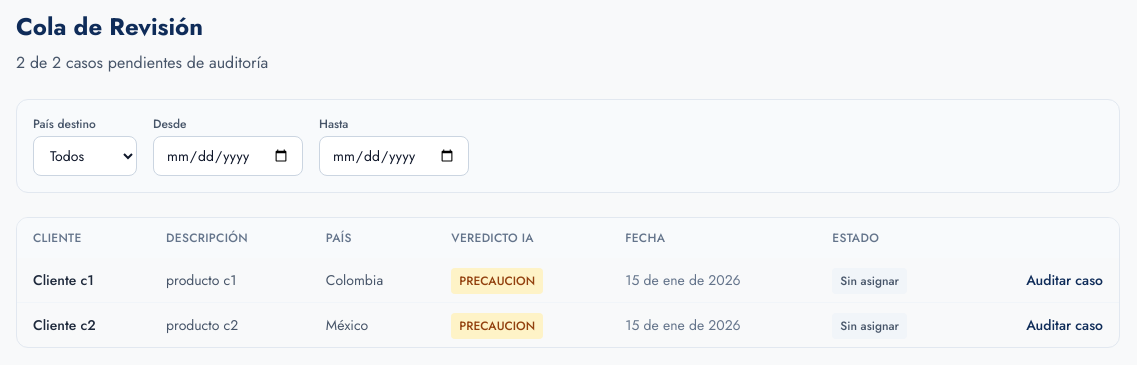
Scenario: AgentPanel › 'Limpiar filtros' restaura la lista completa
Check: the text "Cliente c1" is shown, box [33,270,94,290]
Select "México" in the dropdown labelled "País destino" at (85,156), box [33,136,137,176]
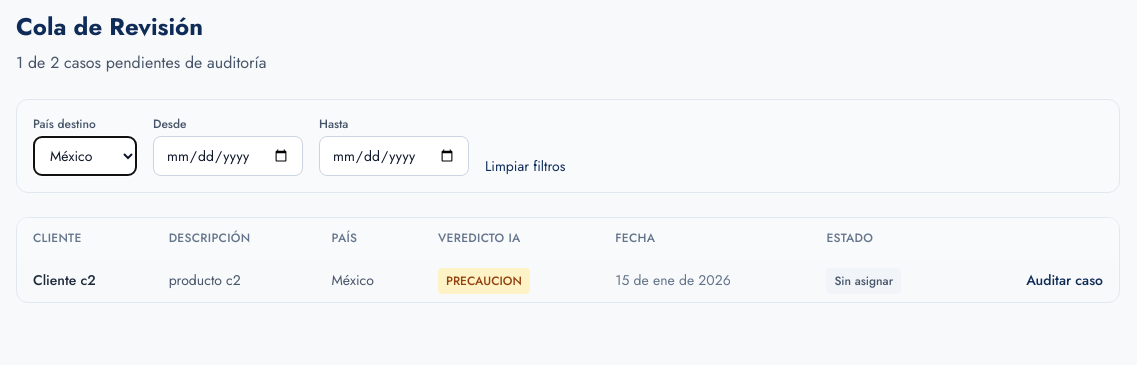
Click the button "Limpiar filtros" at (525,166), box [485,156,565,176]
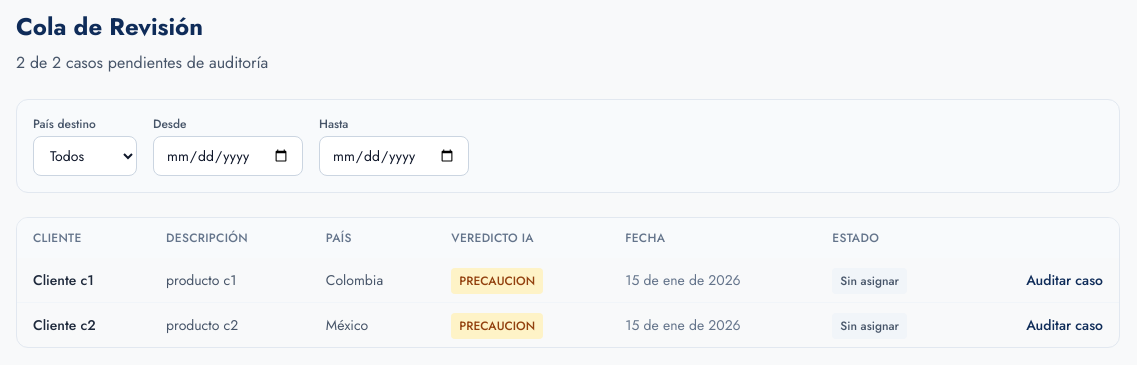
Check: the text "Cliente c2" is shown, box [33,315,96,335]
Check: the text "Cliente c1" is shown, box [33,270,94,290]
